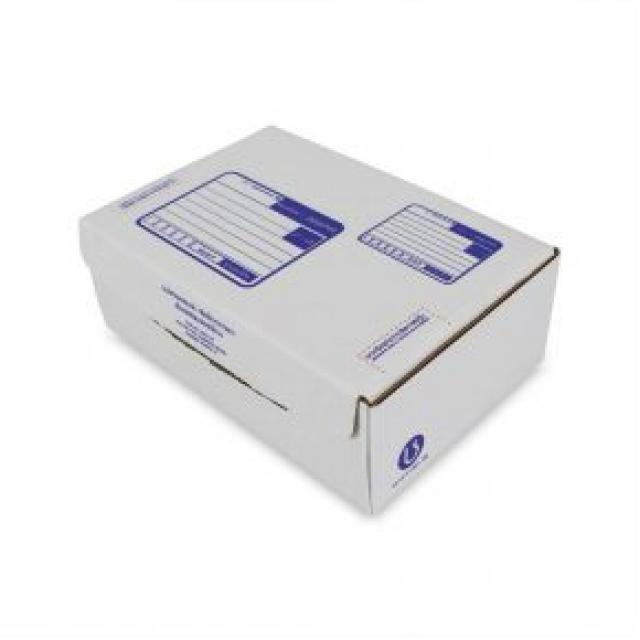box: (60, 99, 572, 528)
